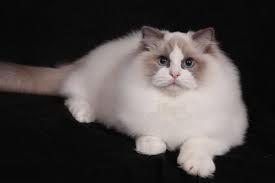ragdoll: (135, 15, 216, 100)
